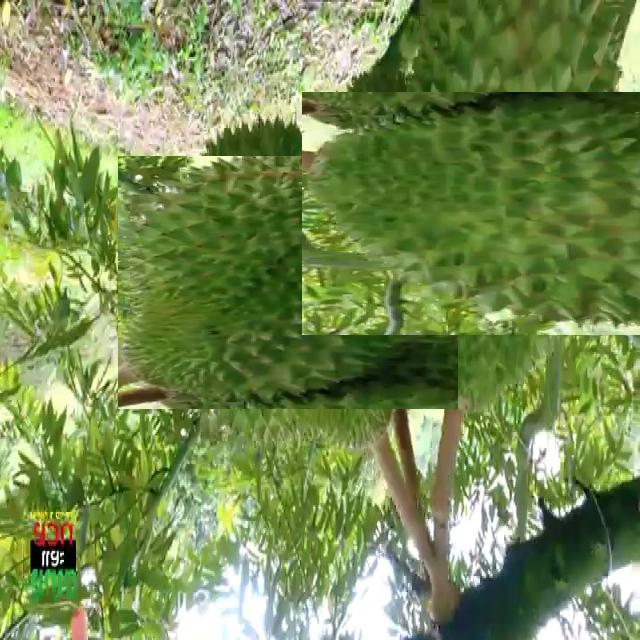durian: (343, 51, 640, 377), (140, 134, 436, 432)
